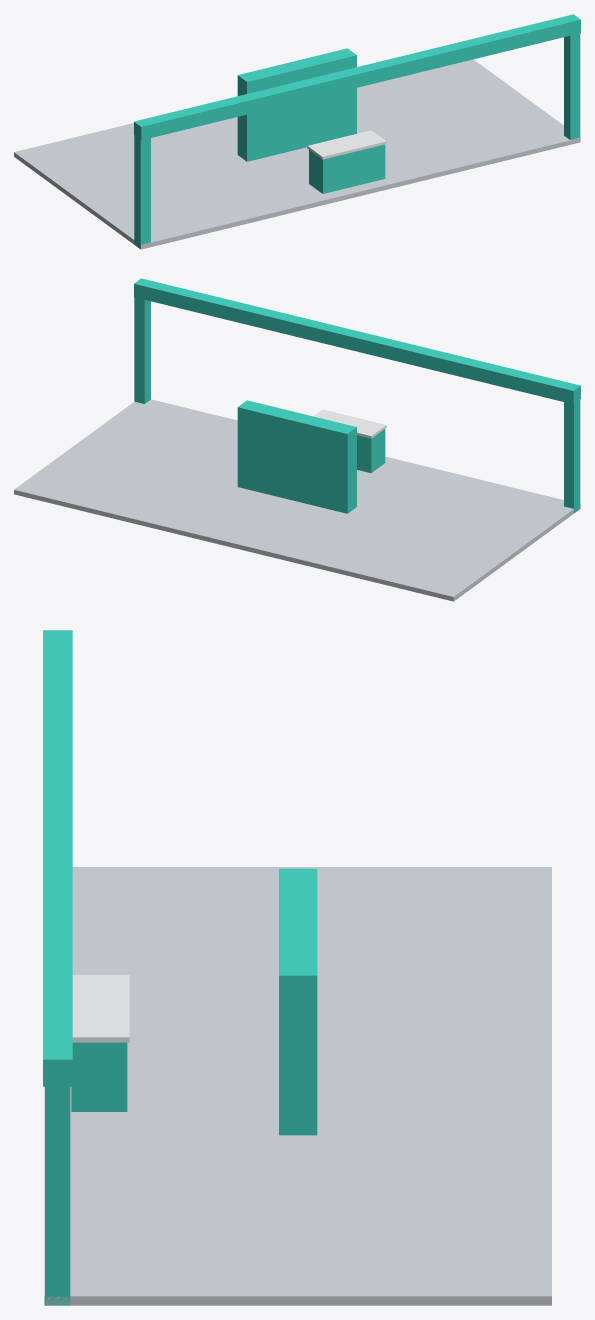
The picture shows the model from 3 angles, top to bottom: view 1: azimuth 30°, elevation 25°; view 2: azimuth 150°, elevation 25°; view 3: azimuth 270°, elevation 25°; orthographic projection. The views are drawn at different scales.
Visible parts, largest first — view 1: Exhibition Booth Concept; view 2: Exhibition Booth Concept; view 3: Exhibition Booth Concept.
Boxes of the visible parts, left/top/right/bottom form: Exhibition Booth Concept: left=14, top=14, right=580, bottom=249; Exhibition Booth Concept: left=14, top=278, right=580, bottom=601; Exhibition Booth Concept: left=43, top=630, right=551, bottom=1305.
Bounding box in the file's own units: 12 × 3.2 × 6.02.
